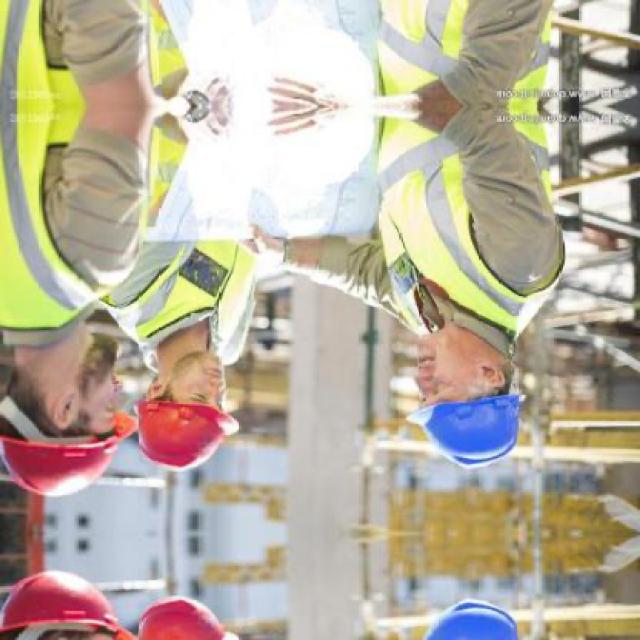con casco: (0, 237, 147, 541), (116, 255, 259, 526), (395, 268, 530, 516)
